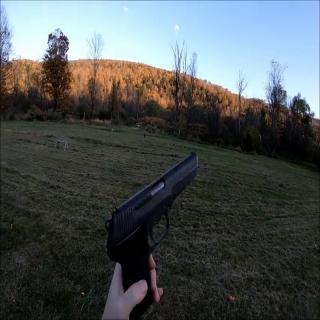gun: (104, 142, 200, 319)
